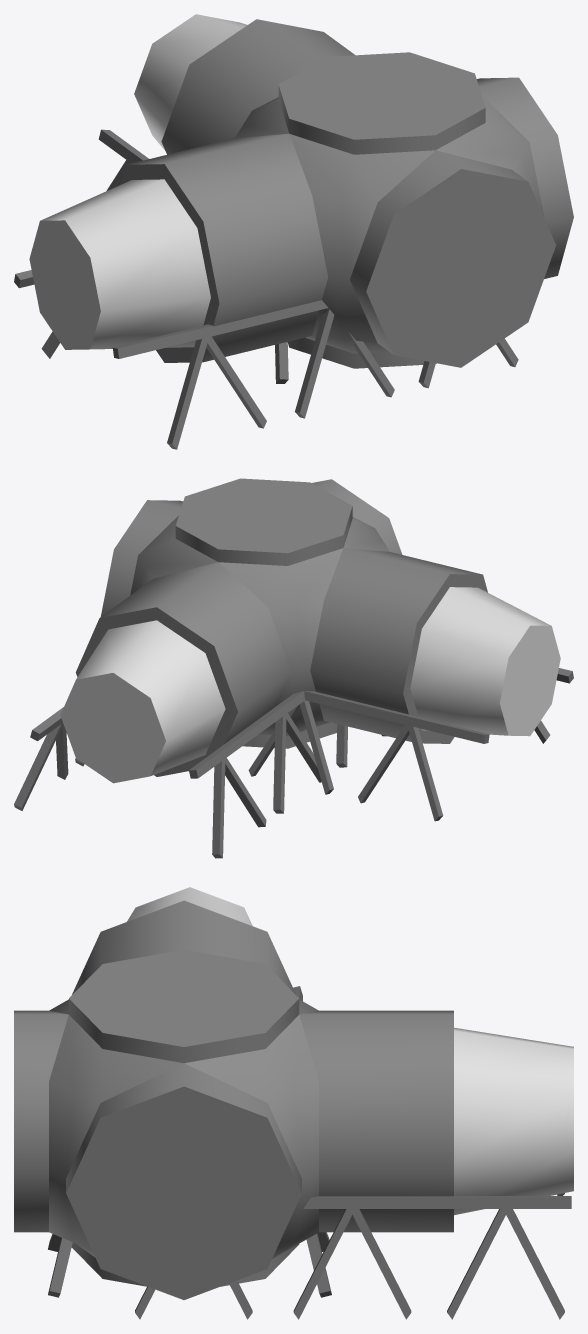
The model's file is TunnelIntersectionCorner.glb.
The picture shows the model from 3 angles, top to bottom: view 1: azimuth 30°, elevation 25°; view 2: azimuth 150°, elevation 25°; view 3: azimuth 270°, elevation 25°; orthographic projection. The views are drawn at different scales.
Parts seen in each view (by area): view 1: Corner, IntersectionT2.002, IntersectionT2; view 2: Corner, IntersectionT2, IntersectionT2.002; view 3: Corner, IntersectionT2, IntersectionT2.002.
Part boxes in pixels (x1,y1,x2,y2): Corner: (29, 14, 573, 368); IntersectionT2.002: (14, 270, 518, 449); IntersectionT2: (98, 129, 288, 383); Corner: (60, 478, 560, 783); IntersectionT2: (14, 691, 386, 858); IntersectionT2.002: (248, 668, 573, 821); Corner: (14, 887, 573, 1299); IntersectionT2: (135, 1193, 571, 1319); IntersectionT2.002: (48, 986, 331, 1297).
Size of the model in its own units: 1.46 by 0.7546 by 1.46.
1 material, 1 textured.
